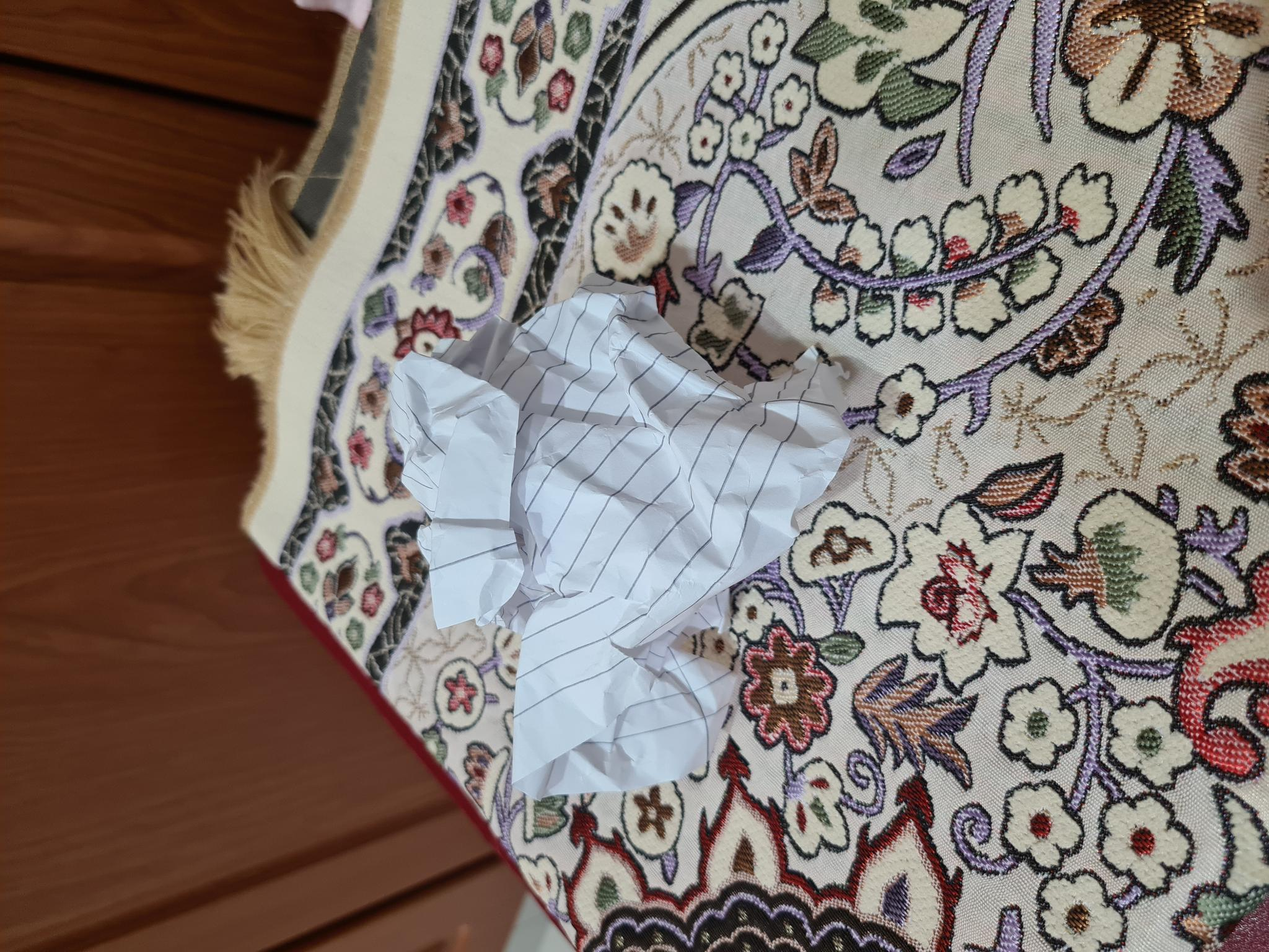Kertas: (135, 366, 689, 877)
